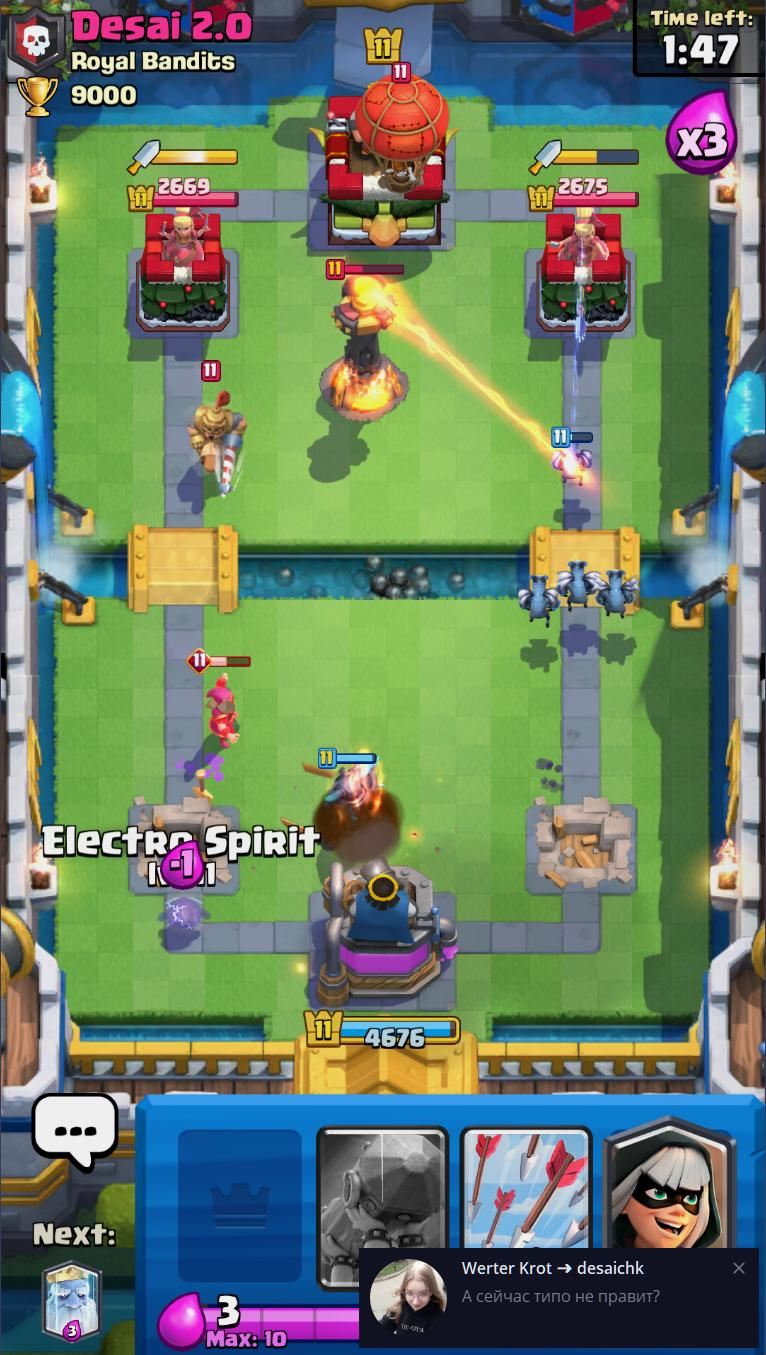ArrowDeck: (454, 1094, 599, 1246)
Balloon: (351, 61, 453, 193)
BanditDeck: (597, 1094, 741, 1249)
BattleRamDeck: (313, 1094, 456, 1293)
DaggerDuchess: (556, 204, 614, 266), (160, 207, 210, 266)
Daggers: (129, 140, 239, 179), (530, 139, 641, 171)
ElectroSpiritDeck: (166, 1093, 311, 1293)
Elixir: (201, 1296, 359, 1351)
EnemyTower: (534, 210, 634, 336), (136, 209, 233, 331)
EvoWizard: (180, 649, 250, 749)
Inferno: (320, 257, 411, 426)
KingTower: (306, 80, 460, 254)
MyKingHP: (306, 1009, 461, 1050)
MyKingTower: (314, 860, 460, 1007)
MyMinion: (547, 426, 601, 487), (593, 567, 640, 619), (517, 577, 563, 627), (557, 559, 600, 611)
MyPekka: (283, 747, 384, 850)
MyPrincessTowerBrocken: (131, 800, 243, 897), (529, 801, 639, 891)
Prince: (187, 359, 249, 501)
RoyaleGhostNext: (40, 1263, 104, 1341)
TowerPrincessHP: (530, 176, 640, 211), (127, 177, 240, 211)
